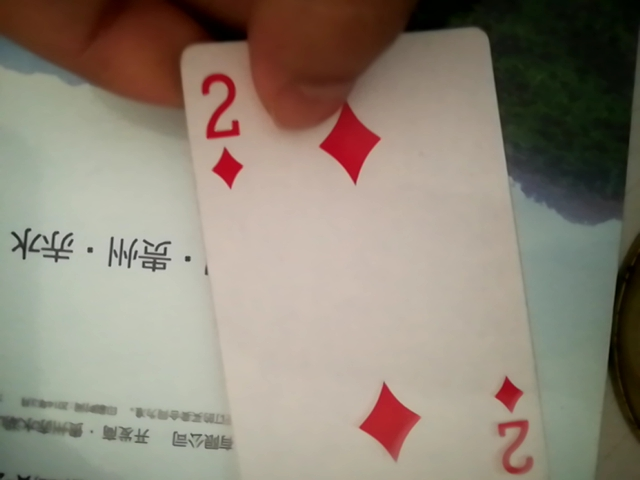fk 2: (164, 36, 553, 480)
